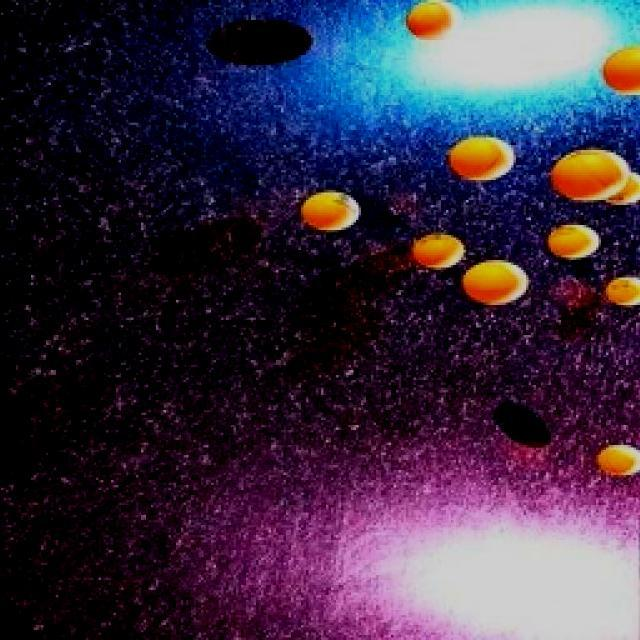oball: (550, 148, 629, 200), (459, 260, 528, 304), (446, 138, 514, 178), (297, 190, 361, 231), (399, 0, 455, 40), (602, 45, 640, 94), (412, 234, 464, 268), (548, 225, 599, 259), (595, 442, 640, 476), (606, 276, 640, 306), (611, 174, 640, 202)
